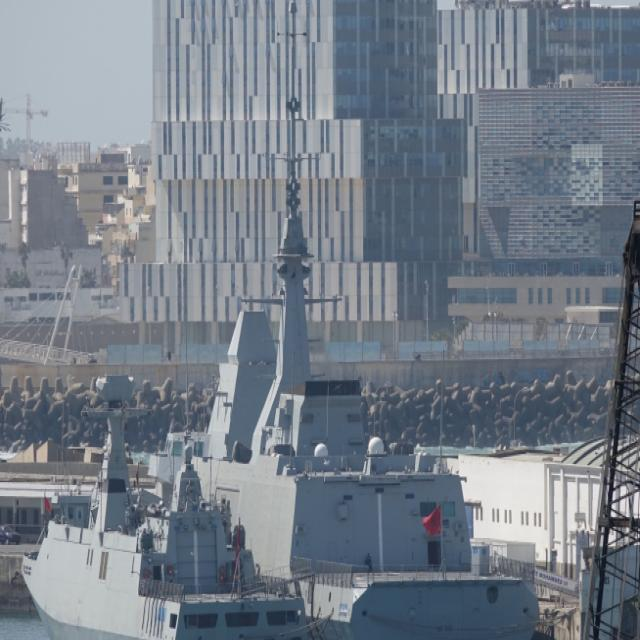Fragata: (125, 160, 556, 640), (1, 382, 320, 640)
